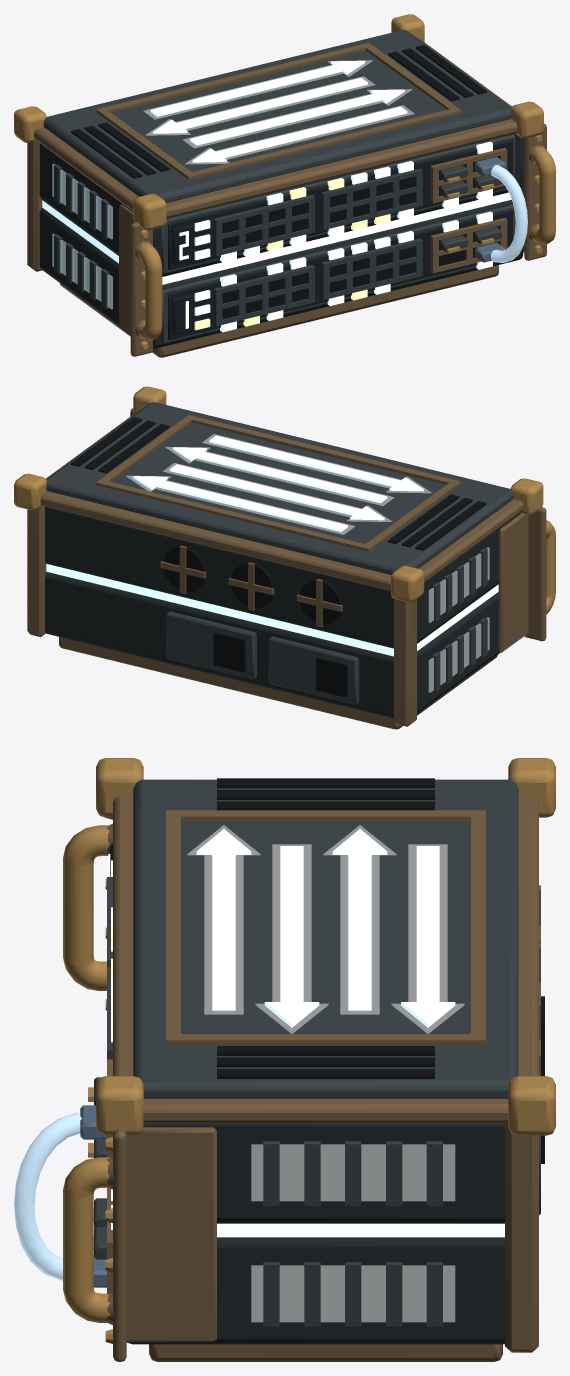
The model's file is switch.glb.
3 views of the same model, one above another, from view 1: azimuth 30°, elevation 25°; view 2: azimuth 150°, elevation 25°; view 3: azimuth 270°, elevation 25° (orthographic). The views are drawn at different scales.
Visible parts, largest first — view 1: body_metal_graphite, body_metal_brass, body_role_glow, body_metal_dark, body_rubber, body_glass_smoke, body_metal_brass_bright, body_role_glow_soft, body_role_luminous, amber_links, body_metal_steel, activity4 (+5 smaller); view 2: body_metal_graphite, body_metal_dark, body_metal_brass, body_role_glow, body_rubber, body_role_glow_soft, body_metal_brass_bright; view 3: body_metal_graphite, body_metal_brass, body_metal_dark, body_role_glow_soft, body_role_glow, body_metal_brass_bright, body_rubber, body_role_luminous, body_metal_steel.
Boxes of the visible parts, x1,y1,x2,y2 form: body_metal_graphite: (43, 30, 514, 343); body_metal_brass: (27, 36, 546, 357); body_role_glow: (42, 60, 511, 332); body_metal_dark: (39, 133, 523, 348); body_rubber: (71, 45, 499, 319); body_glass_smoke: (168, 140, 512, 339); body_metal_brass_bright: (14, 14, 555, 349); body_role_glow_soft: (52, 60, 414, 309); body_role_luminous: (491, 165, 527, 262); amber_links: (194, 178, 390, 330); body_metal_steel: (474, 157, 505, 262); activity4: (194, 172, 492, 286); body_metal_graphite: (46, 402, 513, 704); body_metal_dark: (45, 506, 520, 718); body_metal_brass: (27, 408, 546, 729); body_role_glow: (46, 435, 498, 656); body_rubber: (71, 417, 486, 697); body_role_glow_soft: (126, 434, 489, 692); body_metal_brass_bright: (14, 386, 555, 614); body_metal_graphite: (94, 779, 540, 1326); body_metal_brass: (107, 796, 540, 1361); body_metal_dark: (126, 1124, 504, 1344); body_role_glow_soft: (187, 825, 464, 1322); body_role_glow: (108, 829, 504, 1237); body_metal_brass_bright: (63, 758, 555, 1343); body_rubber: (217, 778, 544, 1163); body_role_luminous: (14, 1112, 81, 1280); body_metal_steel: (80, 1105, 106, 1287).
Bounding box in the file's own units: 1.22 × 0.483 × 0.7966.
